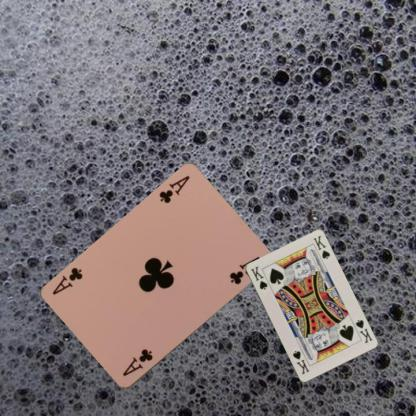Ac: (120, 346, 154, 379), (156, 173, 191, 205)
Ks: (352, 317, 374, 344), (248, 263, 269, 290)
